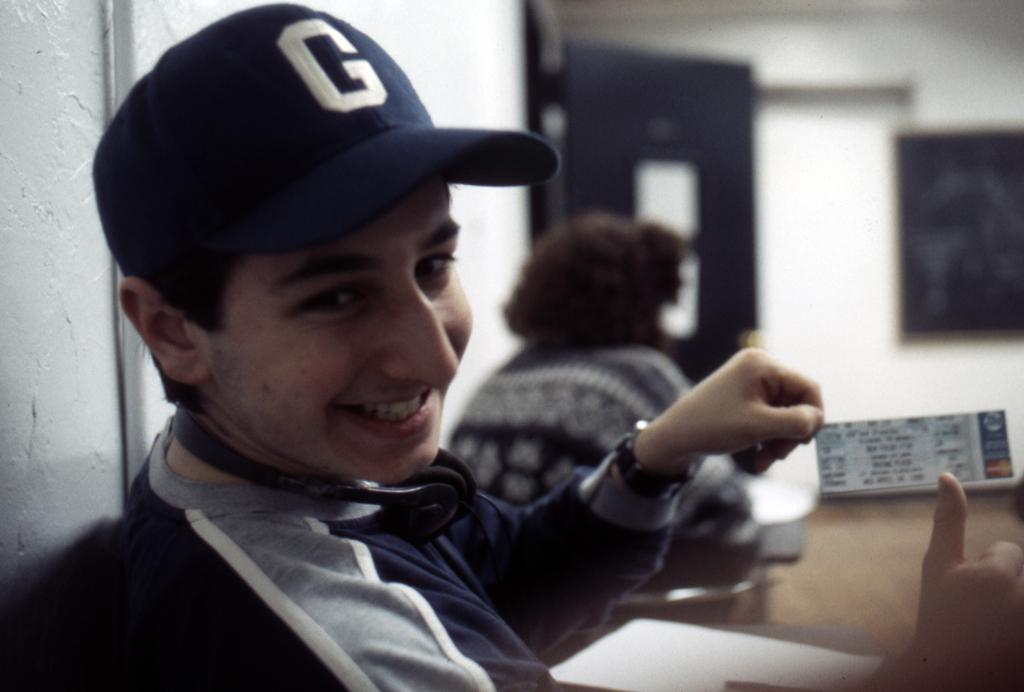Hat: (86, 0, 562, 280)
